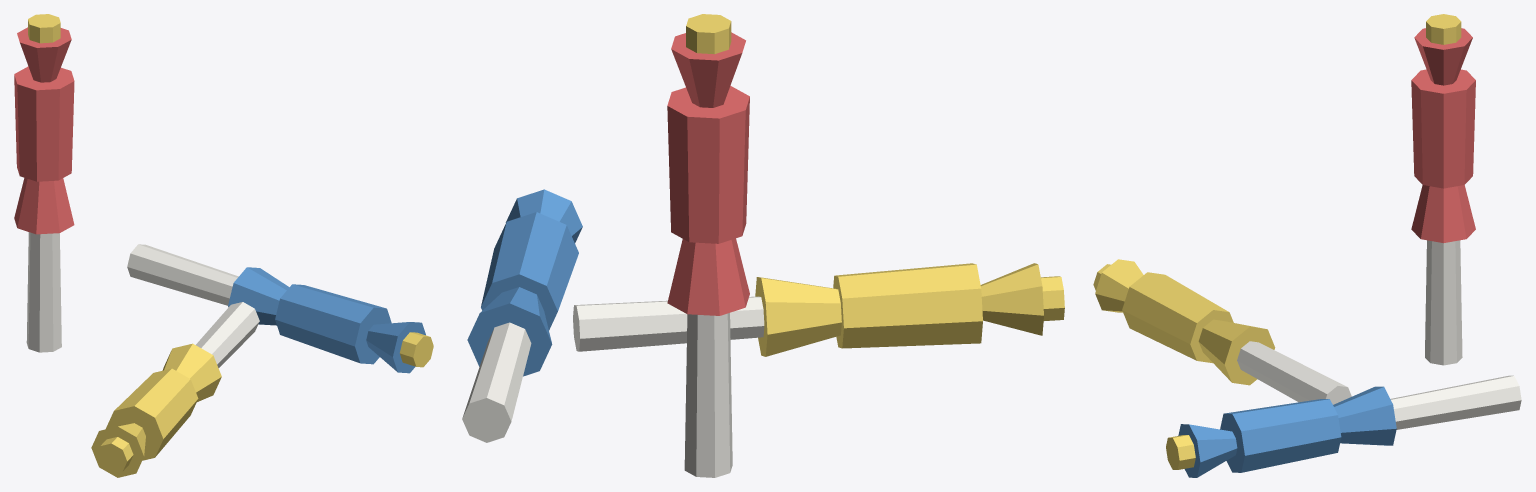
The model's file is travelling-circus-and-big-top-juggling-clubs-95596527__36248.glb.
3 renders of one model, left to right at view 1: azimuth 30°, elevation 25°; view 2: azimuth 150°, elevation 25°; view 3: azimuth 270°, elevation 25°, orthographic. The views are drawn at different scales.
Visible parts, largest first — view 1: juggling-clubs-stripe, juggling-clubs-gold, juggling-clubs-canvas, juggling-clubs-azure; view 2: juggling-clubs-gold, juggling-clubs-stripe, juggling-clubs-canvas, juggling-clubs-azure; view 3: juggling-clubs-canvas, juggling-clubs-gold, juggling-clubs-stripe, juggling-clubs-azure.
Part boxes in pixels (x1,y1,x2,y2): juggling-clubs-stripe: [14, 27, 74, 234]; juggling-clubs-gold: [28, 14, 433, 477]; juggling-clubs-canvas: [26, 232, 259, 367]; juggling-clubs-azure: [228, 267, 425, 373]; juggling-clubs-gold: [686, 14, 1064, 356]; juggling-clubs-stripe: [667, 32, 749, 315]; juggling-clubs-canvas: [462, 296, 764, 477]; juggling-clubs-azure: [467, 189, 582, 376]; juggling-clubs-canvas: [1237, 240, 1521, 429]; juggling-clubs-gold: [1093, 14, 1461, 469]; juggling-clubs-stripe: [1411, 28, 1475, 243]; juggling-clubs-azure: [1178, 386, 1396, 477].
Bounding box in the file's own units: 0.7519 × 0.63 × 0.7276.
